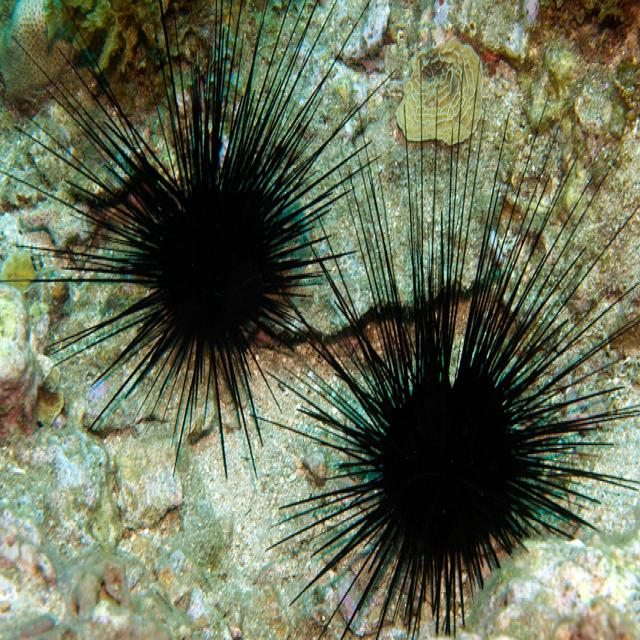Urchin: (250, 54, 639, 632), (1, 2, 404, 484)
